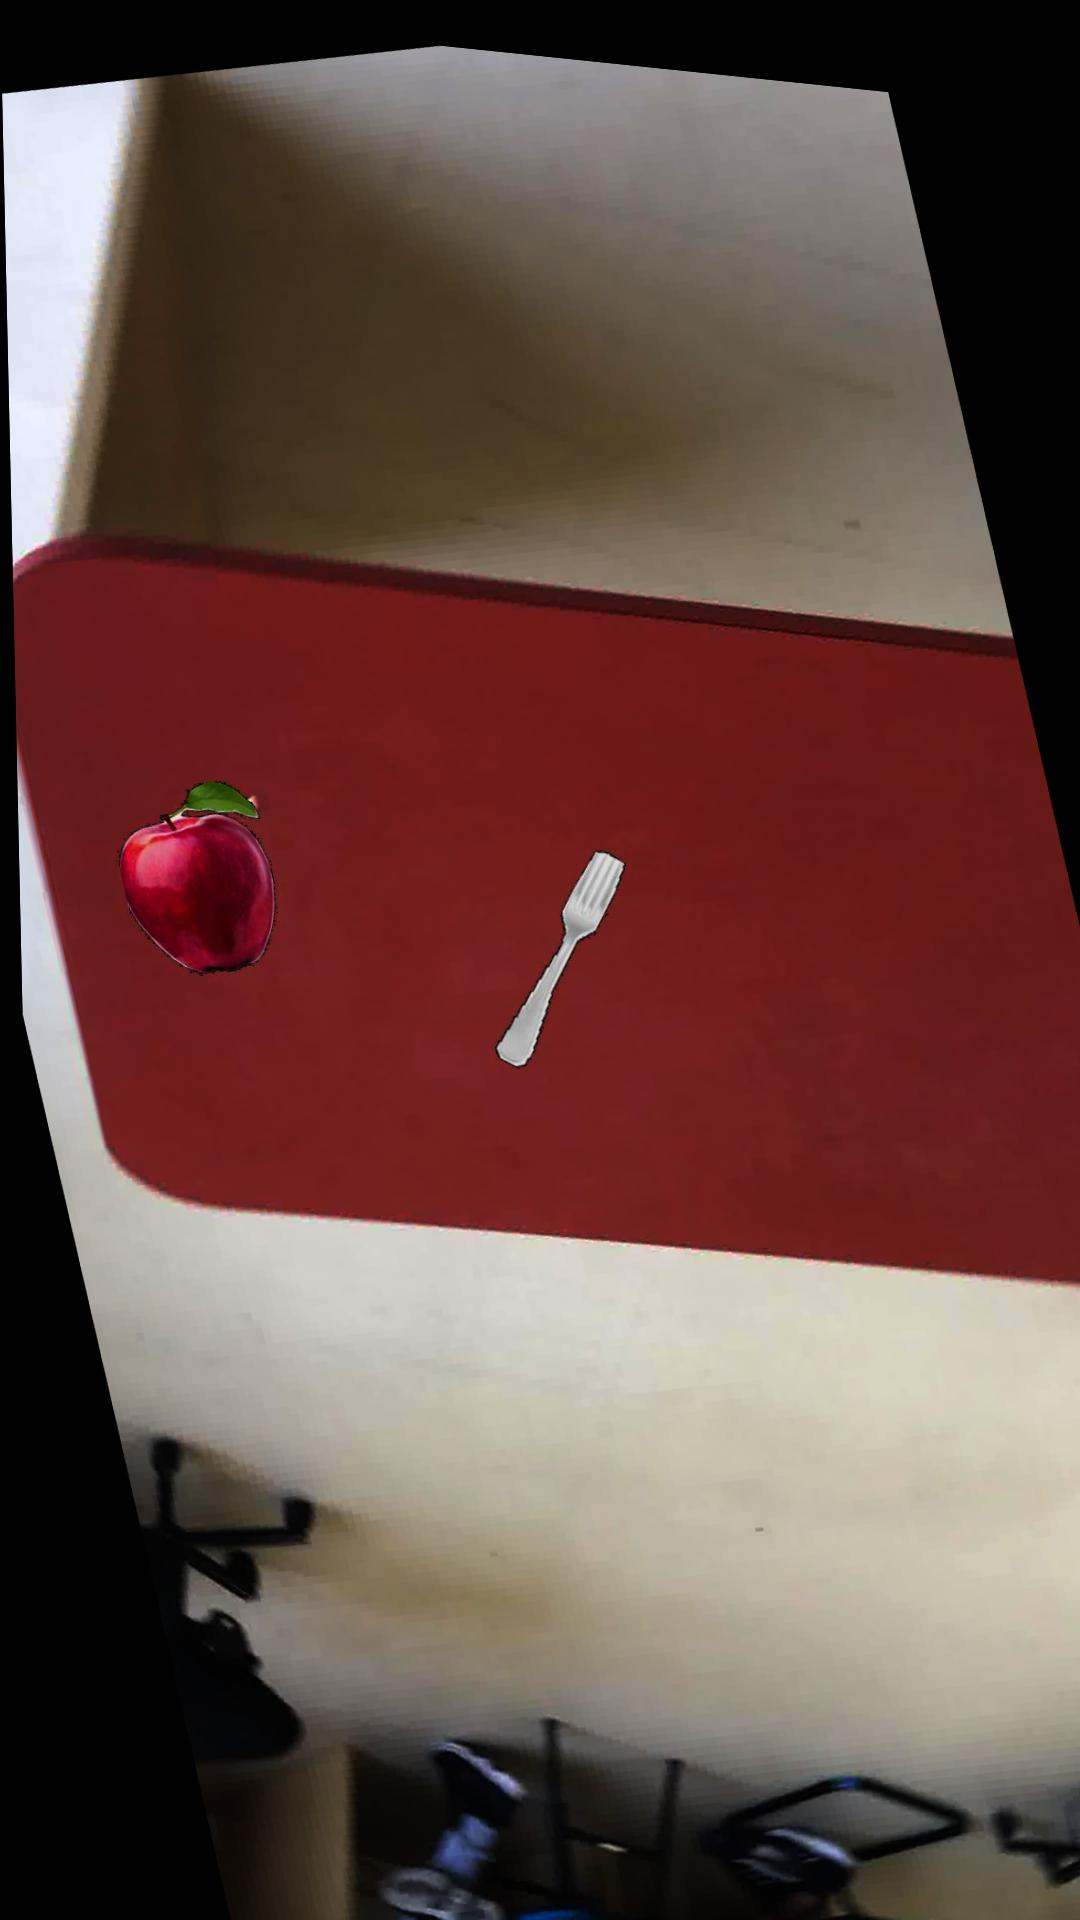fork: (492, 839, 622, 1059)
